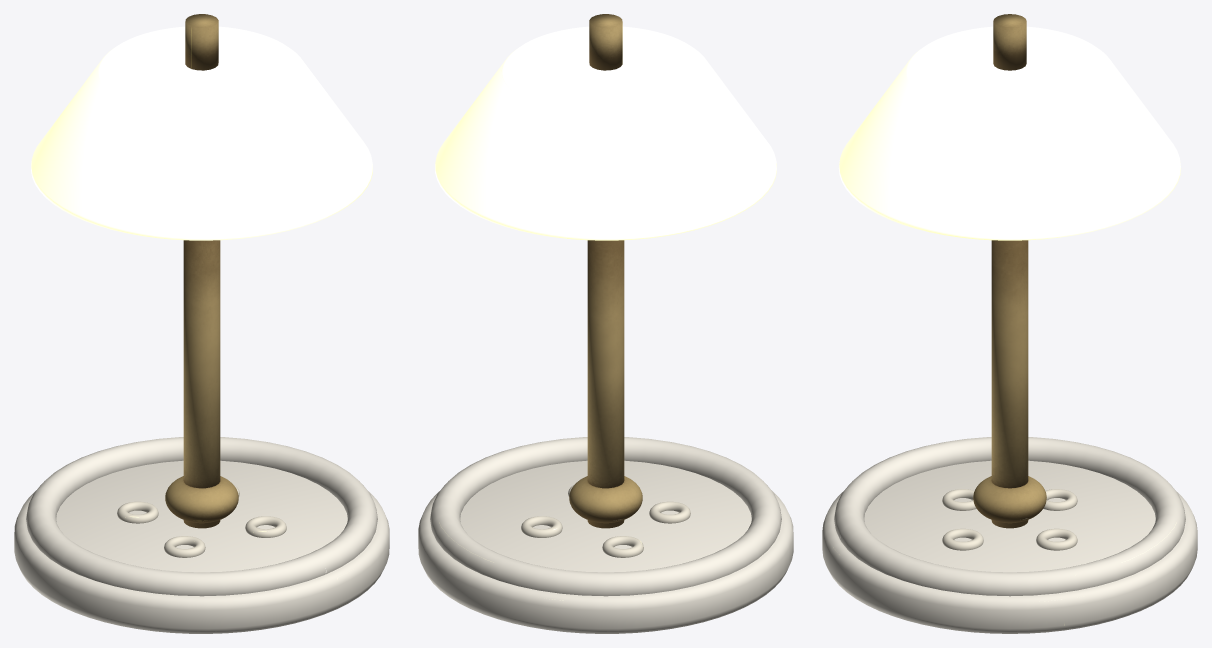
Rendered from sc_lamp_v2.glb.
3 views of the same model, side by side, from view 1: azimuth 30°, elevation 25°; view 2: azimuth 150°, elevation 25°; view 3: azimuth 270°, elevation 25° (orthographic).
Parts seen in each view (by area): view 1: sc_lamp; view 2: sc_lamp; view 3: sc_lamp.
Boxes of the visible parts, x1=… form: sc_lamp: x1=14, y1=14, x2=389, y2=633; sc_lamp: x1=418, y1=14, x2=793, y2=633; sc_lamp: x1=822, y1=14, x2=1197, y2=633.
Size of the model in its own units: 0.7467 by 1.18 by 0.7467.
1 material, 1 textured.
